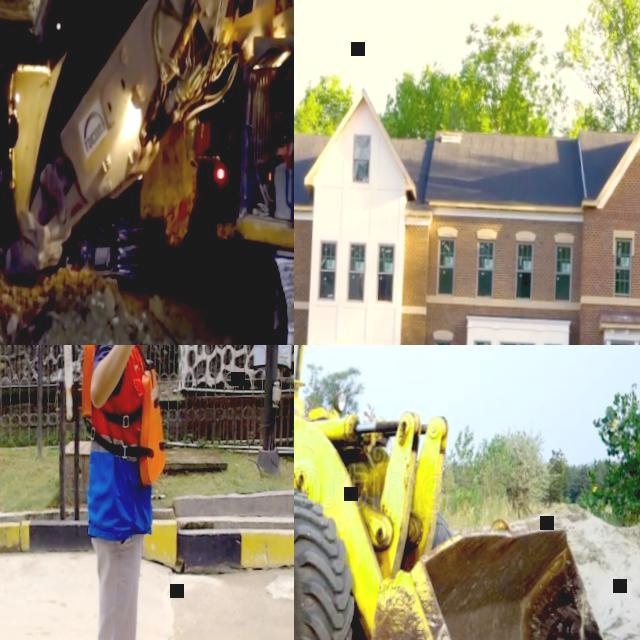machinery: (294, 345, 640, 640), (0, 0, 294, 345)
person: (55, 345, 174, 640), (268, 75, 294, 204)
vest: (71, 345, 174, 489)
